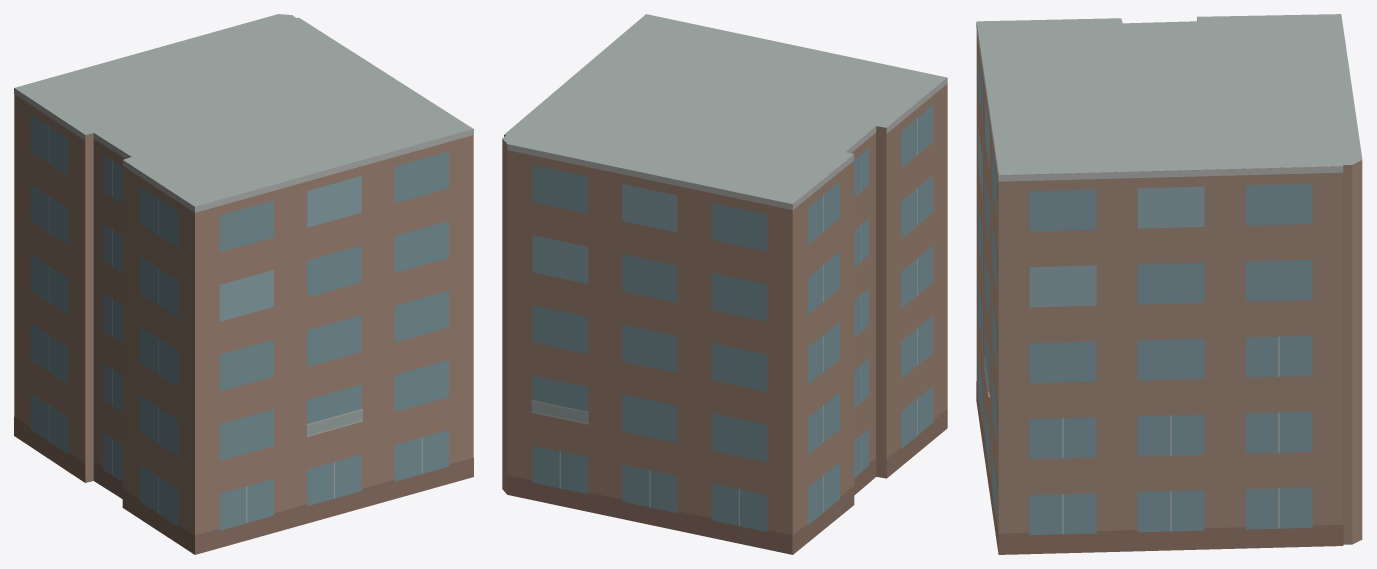
Rendered from survey-upis-32741888.glb.
3 renders of one model, left to right at view 1: azimuth 30°, elevation 25°; view 2: azimuth 150°, elevation 25°; view 3: azimuth 270°, elevation 25°, orthographic. The views are drawn at different scales.
Visible parts, largest first — view 1: survey-upis-32741888.tmp; view 2: survey-upis-32741888.tmp; view 3: survey-upis-32741888.tmp.
Part boxes in pixels (bbox=[...]): survey-upis-32741888.tmp: bbox=[14, 14, 473, 554]; survey-upis-32741888.tmp: bbox=[502, 14, 947, 554]; survey-upis-32741888.tmp: bbox=[976, 14, 1362, 554].
Bounding box in the file's own units: 12.93 × 14.2 × 13.09.
